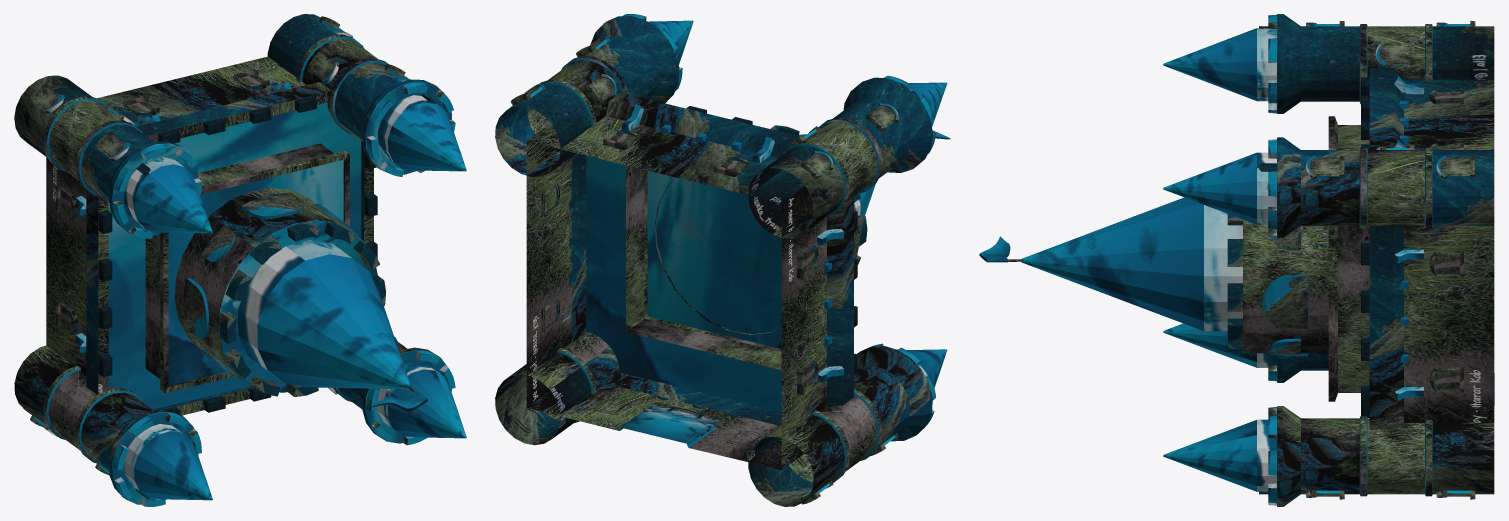
File: pic.obj
3 renders of one model, left to right at view 1: azimuth 30°, elevation 25°; view 2: azimuth 150°, elevation 25°; view 3: azimuth 270°, elevation 25°, orthographic.
Visible parts, largest first — view 1: Object.1; view 2: Object.1; view 3: Object.1.
Boxes of the visible parts, x1,y1,x2,y2 form: Object.1: (14, 14, 466, 506); Object.1: (495, 14, 950, 506); Object.1: (979, 14, 1494, 506).
Size of the model in its own units: 32.55 by 32.84 by 42.59.
